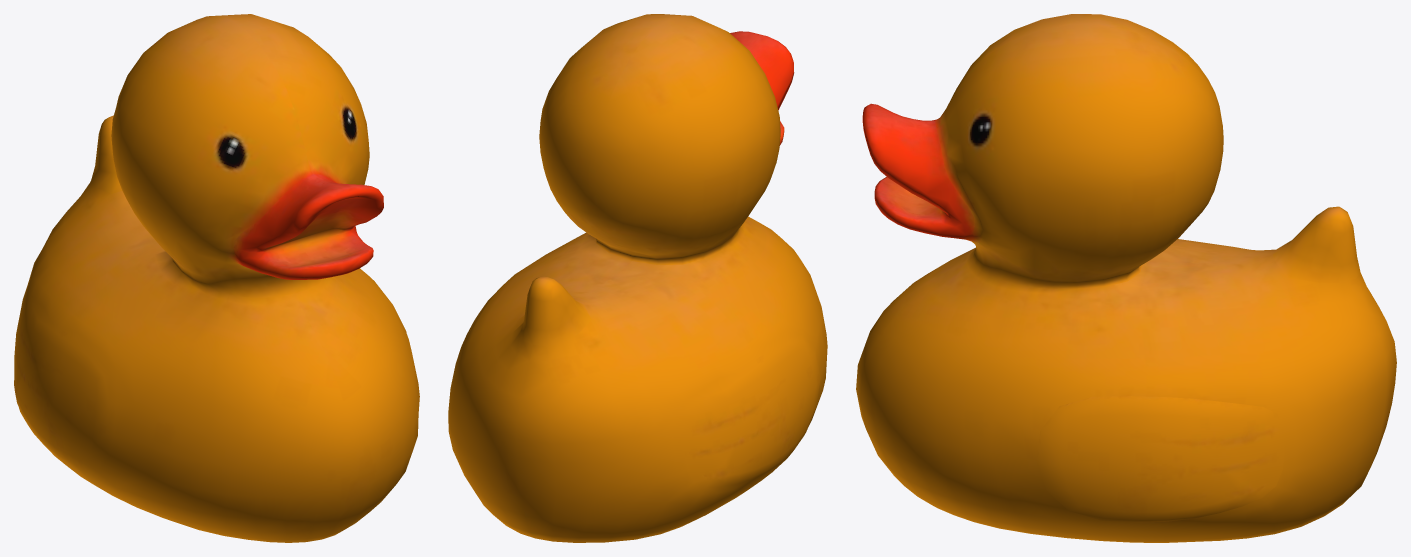
File: rubber_duck_toy.glb
The picture shows the model from 3 angles, left to right: view 1: azimuth 30°, elevation 25°; view 2: azimuth 150°, elevation 25°; view 3: azimuth 270°, elevation 25°; orthographic projection. The views are drawn at different scales.
Visible parts, largest first — view 1: rubber_duck_toy; view 2: rubber_duck_toy; view 3: rubber_duck_toy.
Boxes of the visible parts, x1=… form: rubber_duck_toy: x1=14, y1=14, x2=419, y2=542; rubber_duck_toy: x1=448, y1=14, x2=827, y2=542; rubber_duck_toy: x1=856, y1=14, x2=1396, y2=542.
Bounding box in the file's own units: 0.2135 × 0.2855 × 0.3.
Materials: 1 (1 with a texture image).
